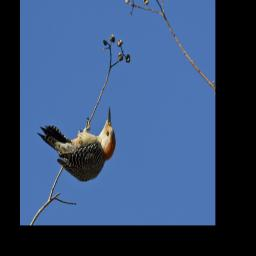Woodpecker: (35, 103, 122, 184)
